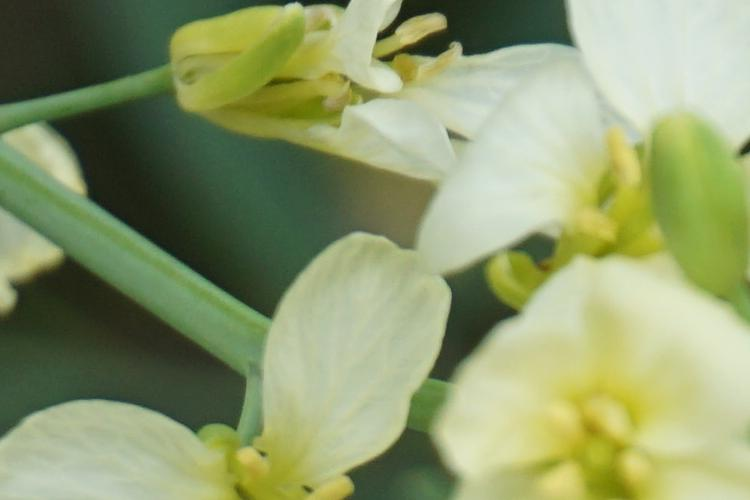bud: (651, 123, 750, 313)
white: (3, 249, 437, 500), (452, 262, 748, 500), (188, 9, 575, 171)
